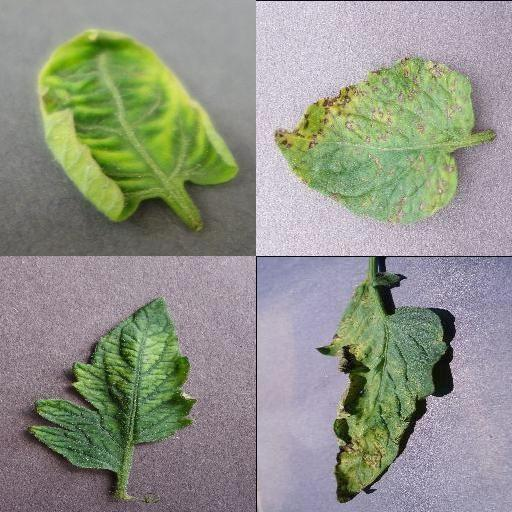Mosaic Virus: (25, 295, 197, 475)
Septoria: (274, 57, 476, 225), (315, 271, 448, 503)
Yellow Leaf Curl Virus: (37, 26, 239, 224)
